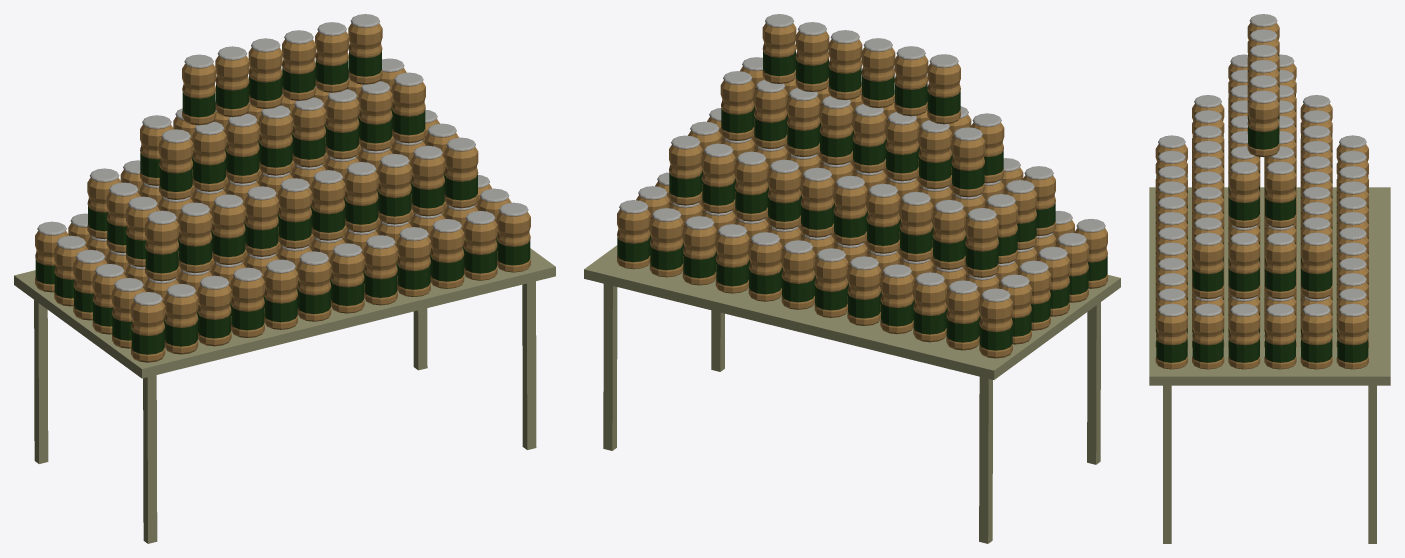
The model's file is pinda_kaas_tafel.fbx.
3 renders of one model, left to right at view 1: azimuth 30°, elevation 25°; view 2: azimuth 150°, elevation 25°; view 3: azimuth 270°, elevation 25°, orthographic. The views are drawn at different scales.
Parts seen in each view (by area): view 1: appelmoes.132; view 2: appelmoes.132; view 3: appelmoes.132.
Boxes of the visible parts, <box> form: appelmoes.132: <box>14,14,555,543</box>; appelmoes.132: <box>584,14,1120,543</box>; appelmoes.132: <box>1149,14,1390,543</box>.
Bounding box in the file's own units: 374 × 362 × 200.
